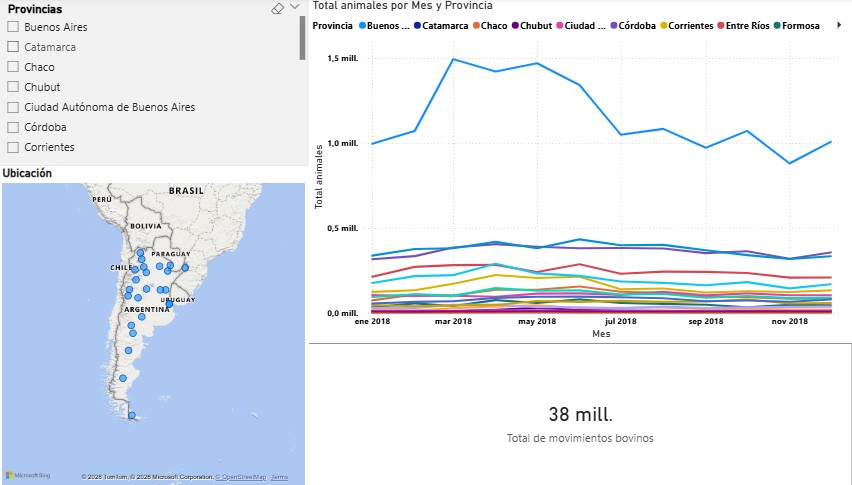

Layout of this report page (visuals, bound fields, positions):
{"tool":"powerbi","page":{"name":"Página 1","canvas":[1280,720],"ordinal":0},"visuals":[{"type":"lineChart","fields":{"Y":["Sum(movimientos_bovinos_mensual_provincia.total_animales)"],"Series":["movimientos_bovinos_mensual_provincia.provincia_origen"],"Category":["movimientos_bovinos_mensual_provincia.año_mes"]},"box":[472.3,0,783.4,496.8],"z":0},{"type":"card","fields":{"Values":["Sum(movimientos_bovinos_mensual_provincia.total_animales)"]},"box":[471.4,497.1,784.3,222.9],"z":1000},{"type":"slicer","fields":{"Values":["movimientos_bovinos_mensual_provincia.provincia_origen"]},"box":[25.7,0,445.7,241.4],"z":2000},{"type":"map","fields":{"Category":["movimientos_bovinos_mensual_provincia.Ubicacion"]},"box":[25.9,241.9,446.4,465.1],"z":3000}]}

Visuals, with their boxes on the page's 1280x720 design canvas (x1, y1, x2, y2). These are canvas units, not pixel positions in the 852x485 screenshot, which may show the page scaled, cropped or inside an application window:
lineChart - Sum(movimientos_bovinos_mensual_provincia.total_animales) x movimientos_bovinos_mensual_provincia.provincia_origen: [x1=472, y1=0, x2=1256, y2=497]
card - Sum(movimientos_bovinos_mensual_provincia.total_animales): [x1=471, y1=497, x2=1256, y2=720]
slicer - movimientos_bovinos_mensual_provincia.provincia_origen: [x1=26, y1=0, x2=471, y2=241]
map - movimientos_bovinos_mensual_provincia.Ubicacion: [x1=26, y1=242, x2=472, y2=707]
